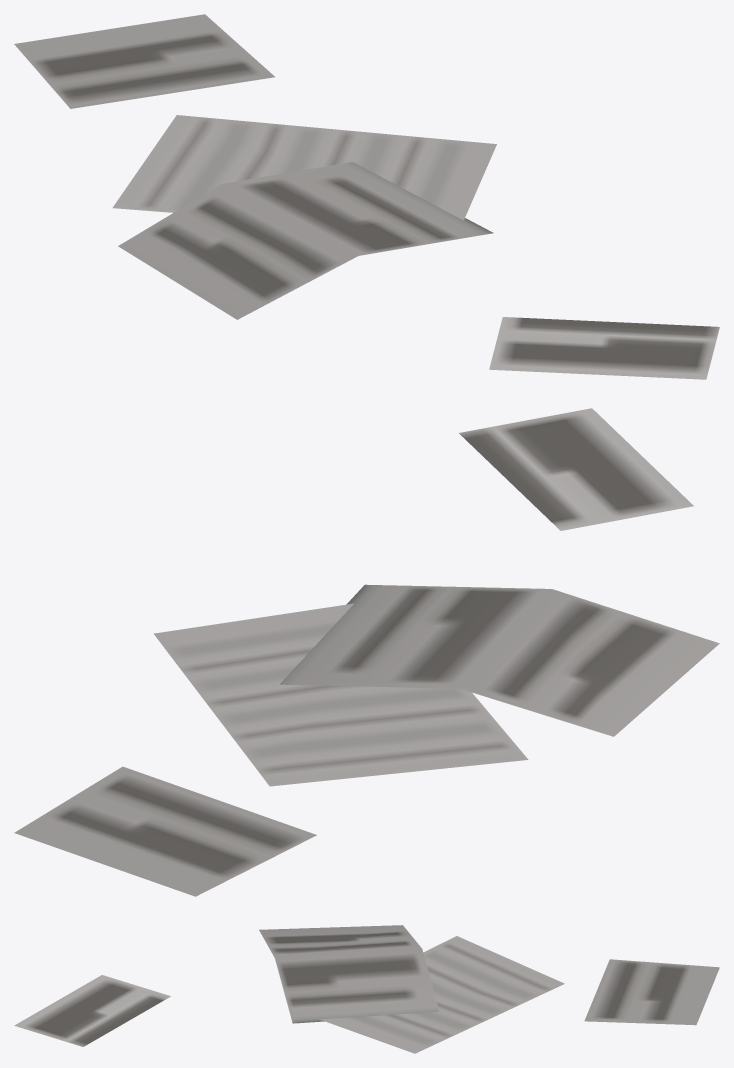
The model's file is SM_Prop_Rubbish_Papers_02.fbx.
3 renders of one model, top to bottom at view 1: azimuth 30°, elevation 25°; view 2: azimuth 150°, elevation 25°; view 3: azimuth 270°, elevation 25°, orthographic. The views are drawn at different scales.
Visible parts, largest first — view 1: SM_Prop_Rubbish_Papers_02; view 2: SM_Prop_Rubbish_Papers_02; view 3: SM_Prop_Rubbish_Papers_02.
Boxes of the visible parts, left/top/right/bottom form: SM_Prop_Rubbish_Papers_02: left=14, top=14, right=719, bottom=379; SM_Prop_Rubbish_Papers_02: left=14, top=408, right=719, bottom=896; SM_Prop_Rubbish_Papers_02: left=14, top=925, right=719, bottom=1053.
Size of the model in its own units: 38.32 by 2.17 by 88.43.
